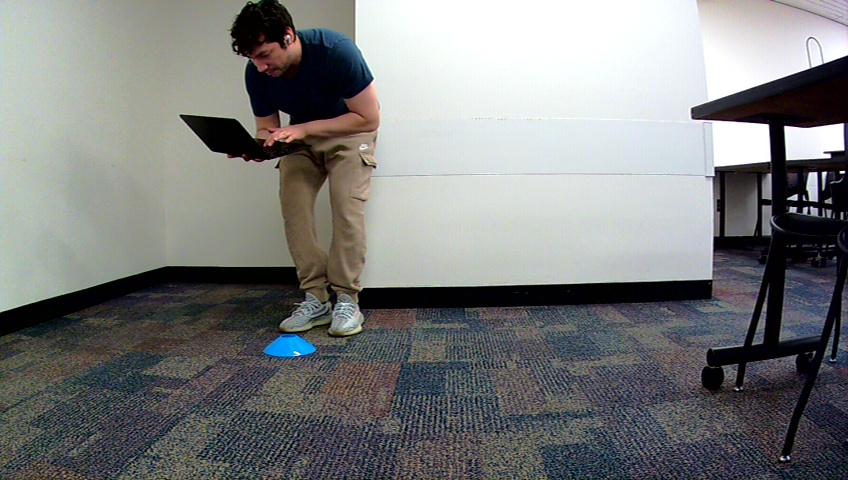cone: (262, 330, 316, 358)
